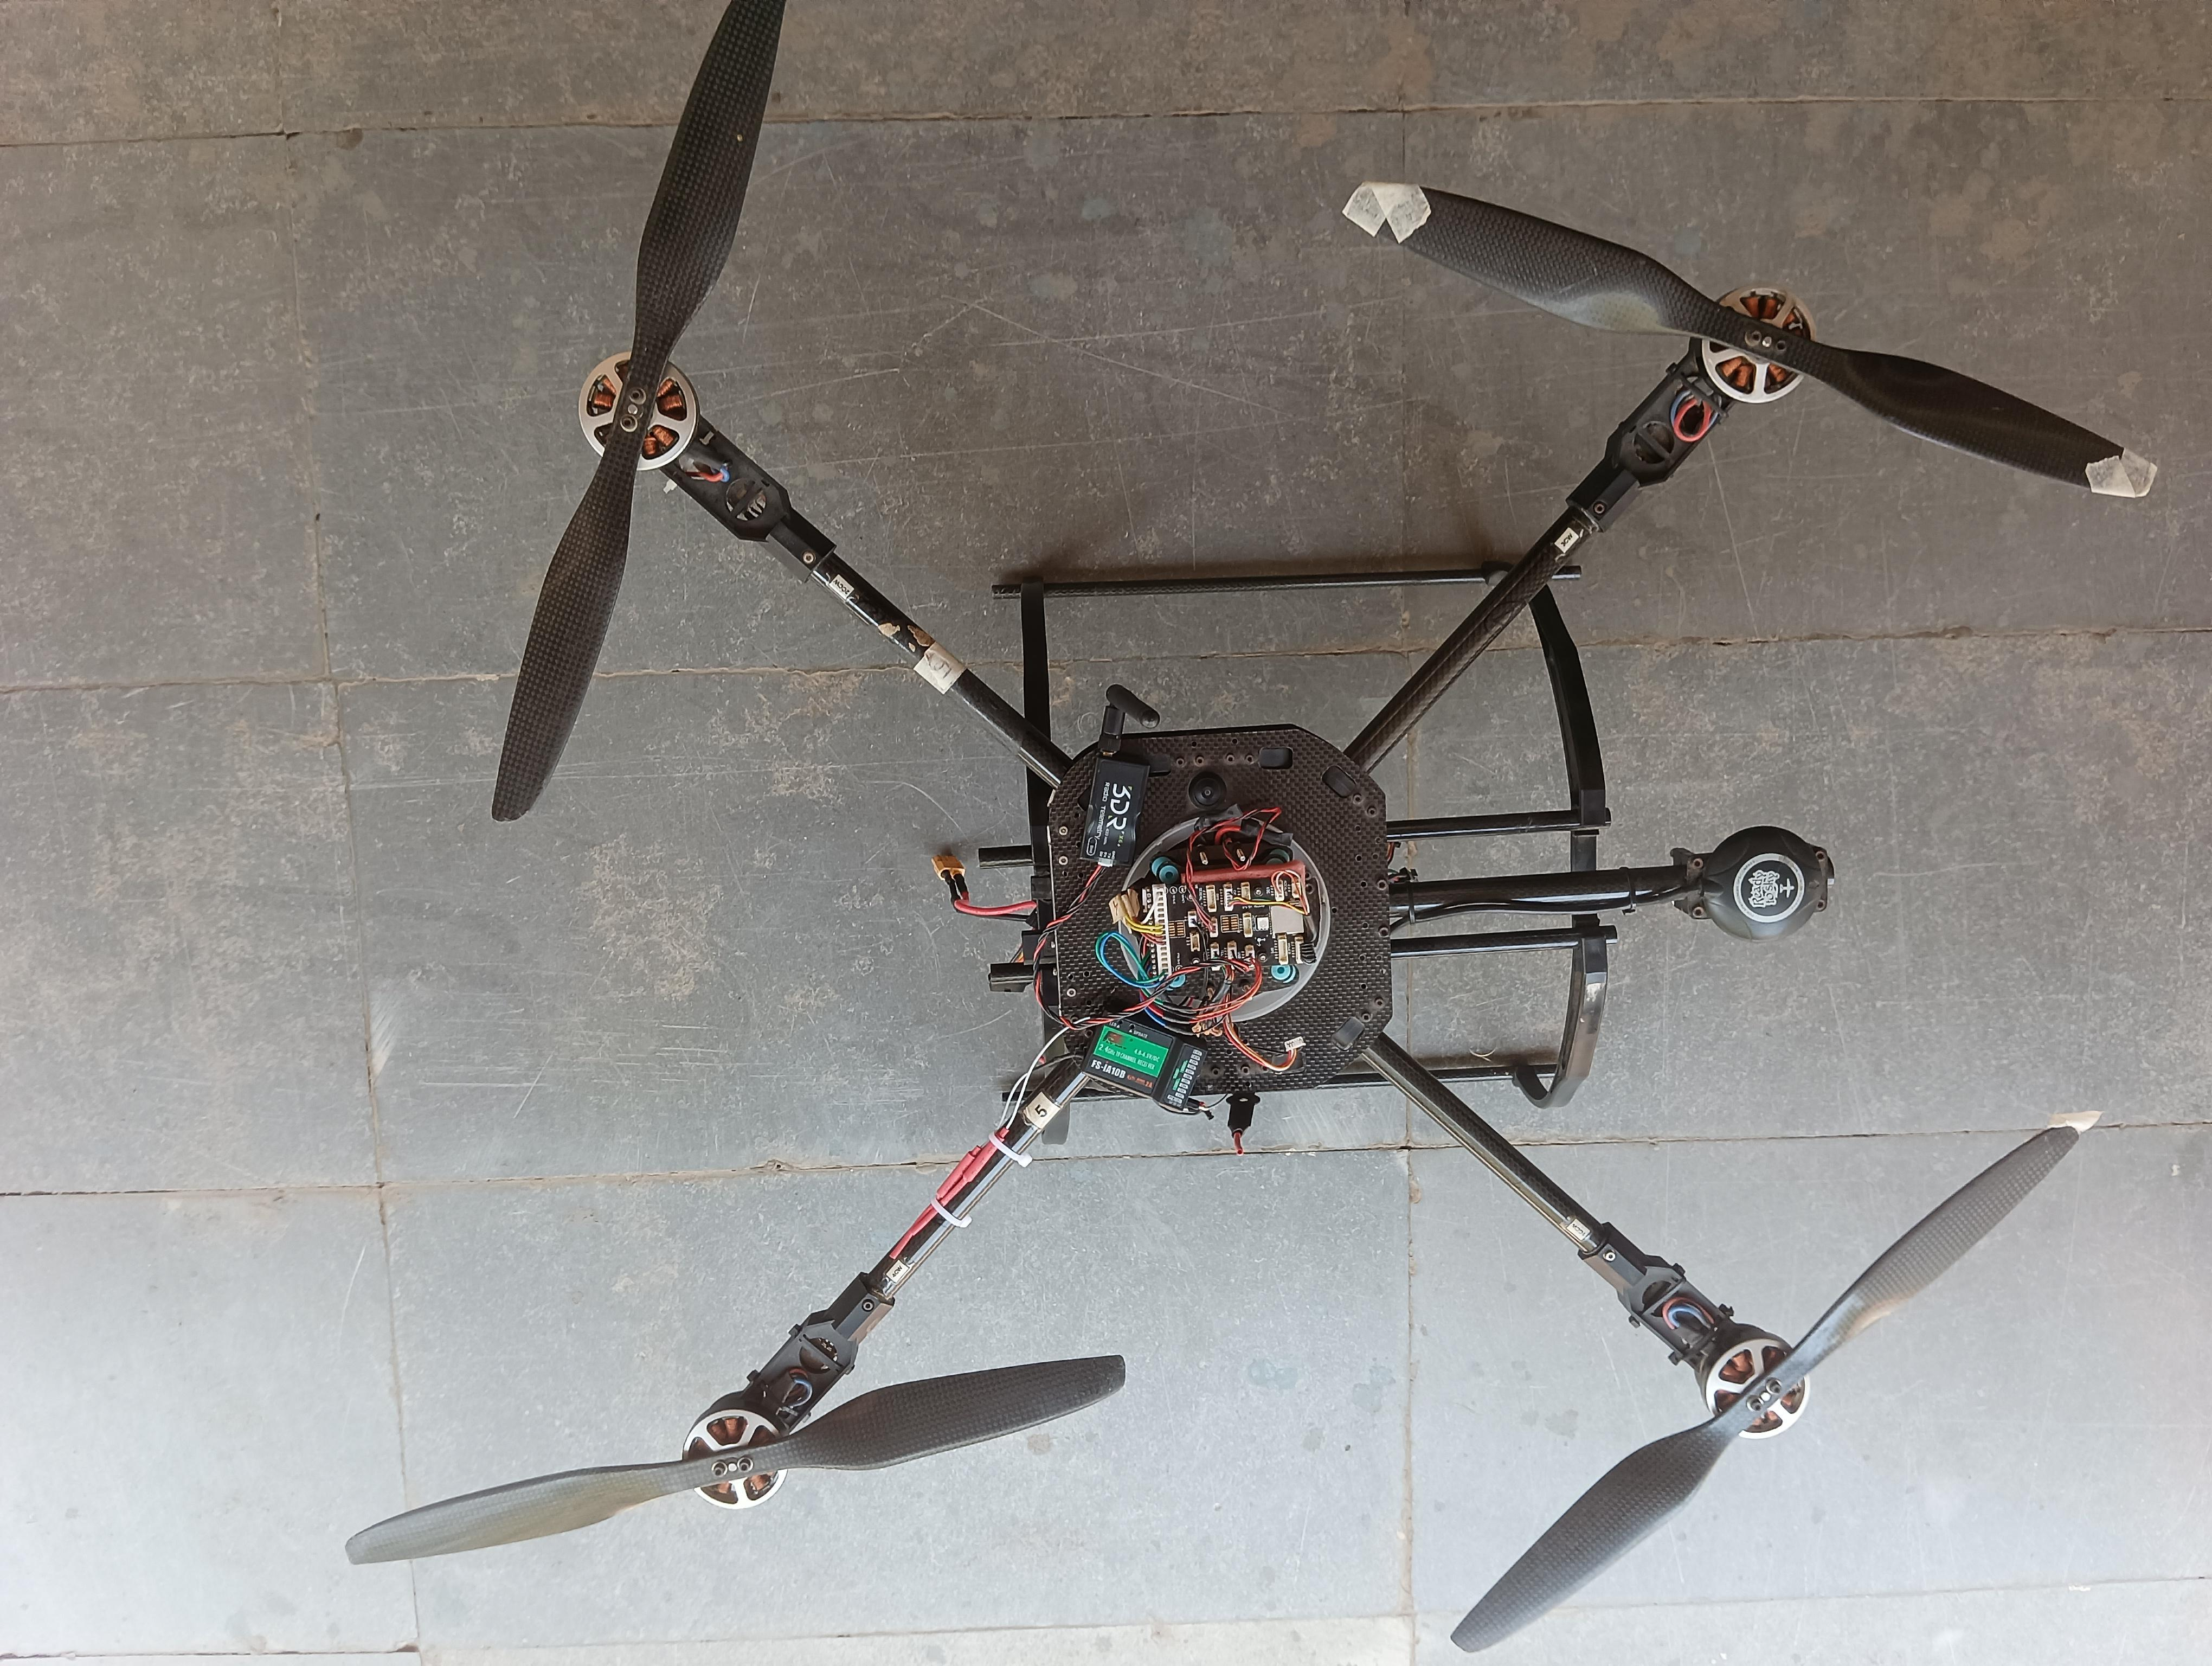drone: (337, 0, 2189, 1666)
